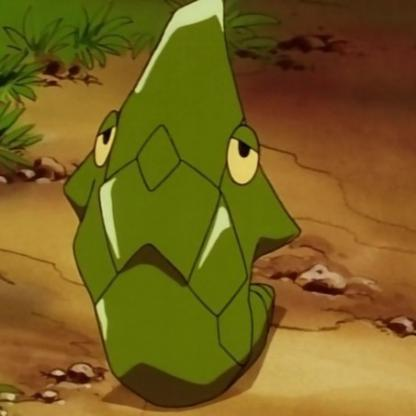Metapod: (59, 1, 293, 404)
